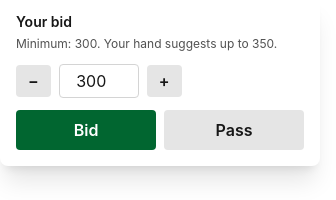
Scenario: BiddingControls › disables the Bid button when the entered amount is below the minimum
Replace the text in the number field named "Bid amount" with "280" at x=99, y=81, box [59,64,139,98]
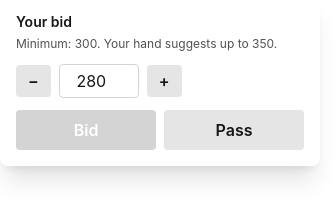
expect the button "Bid" is disabled: met, box [16,110,156,150]
